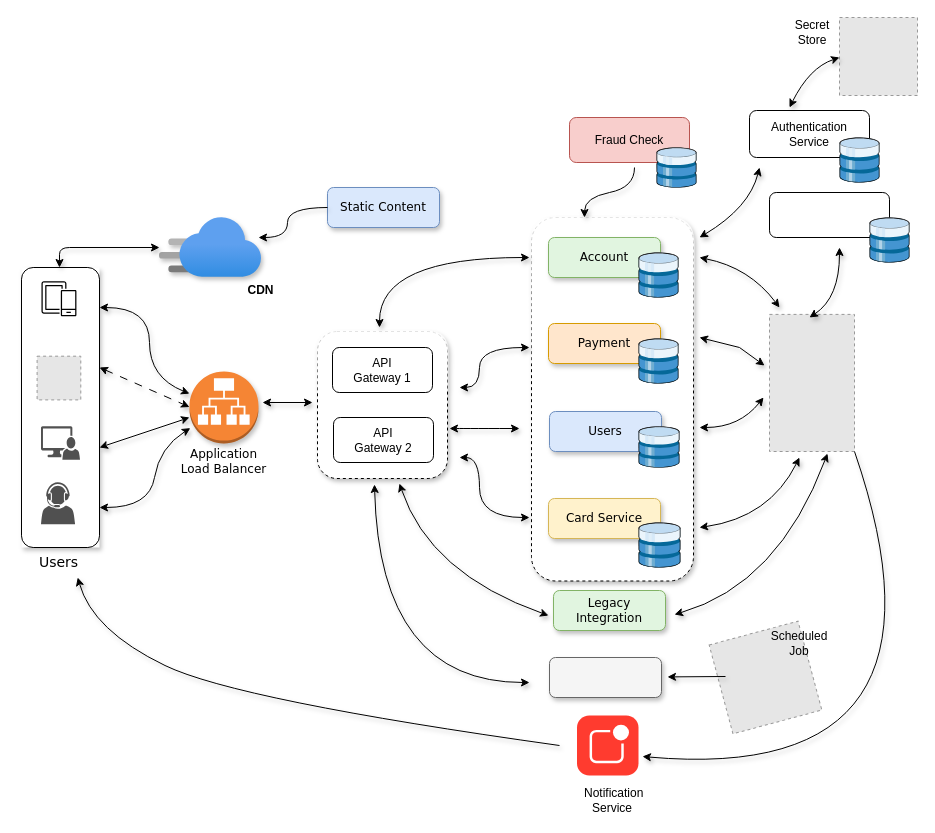
This 935x833 diagram has some shape labels left out. Grey dashed boxes stand in for pictures. The centre of each missing label's shape, as x and y in pixels:
"DataMigration" goes at pixel 606 678.
"Payment/Fund Transfer" goes at pixel 829 215.
